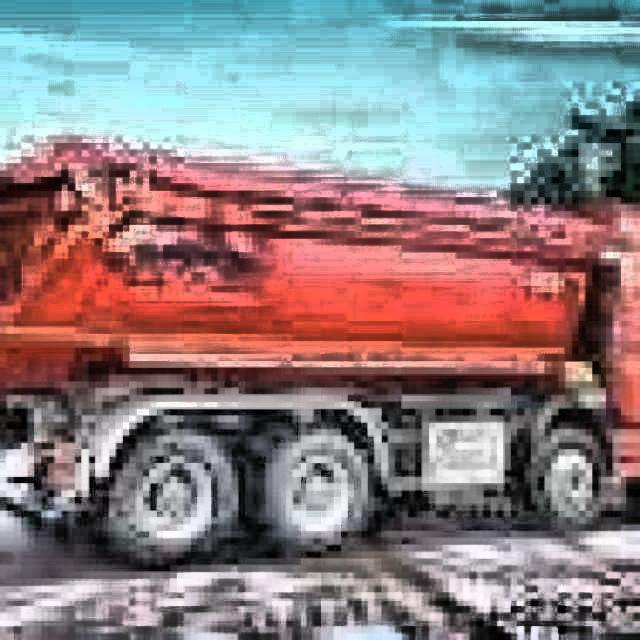dump_truck: (0, 103, 640, 566)
